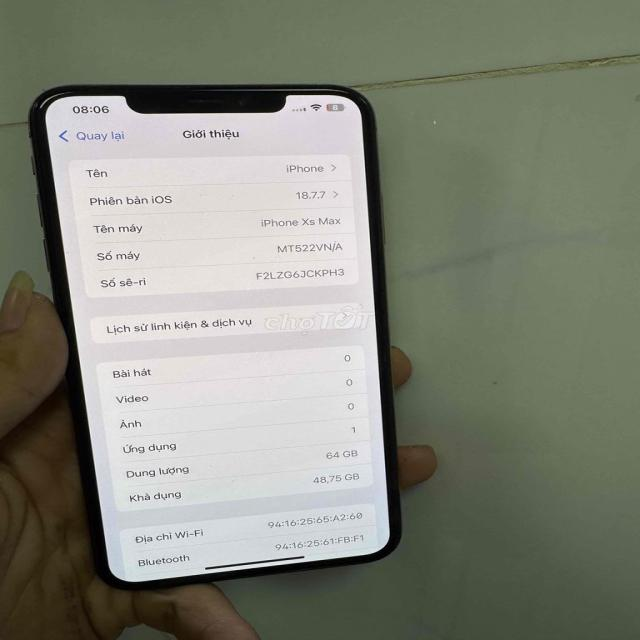gen_x_xs: (30, 83, 408, 591)
